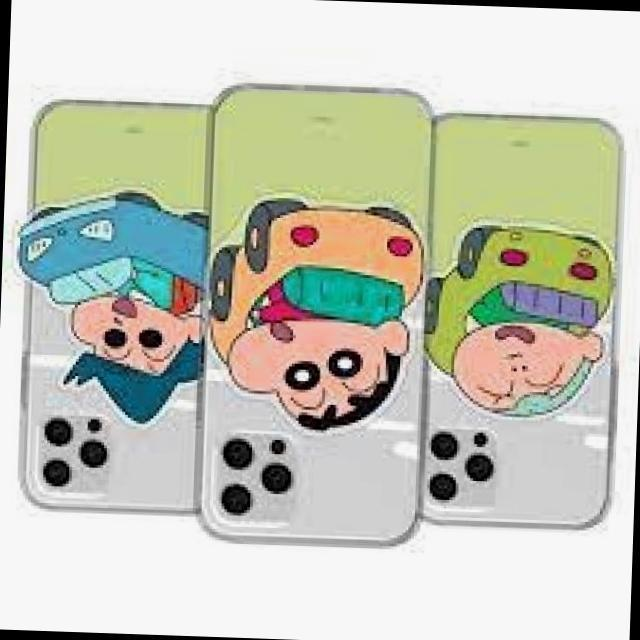lens: (218, 430, 296, 513), (426, 422, 501, 506), (41, 412, 113, 491)
phone: (189, 77, 436, 554), (418, 104, 628, 533), (12, 93, 215, 518)
